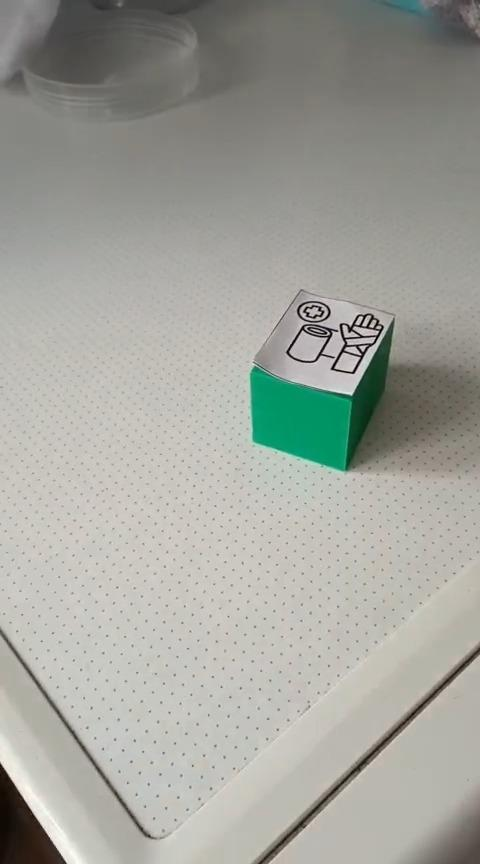Bandages: (250, 288, 395, 474)
